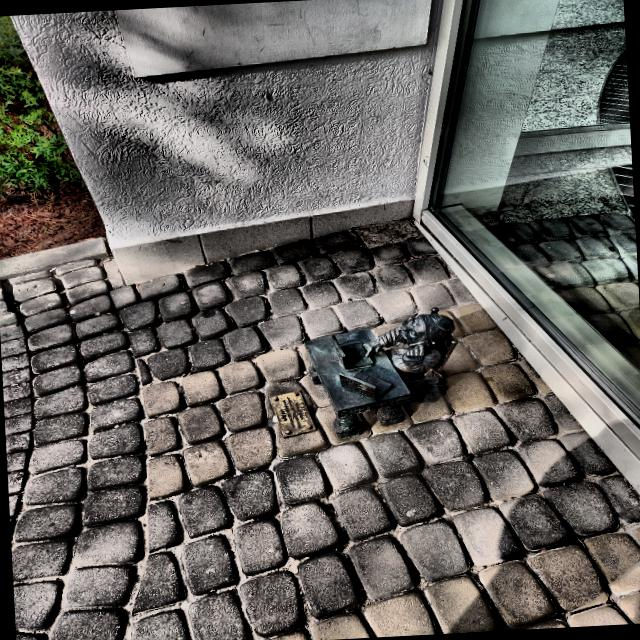WIZek: (306, 306, 456, 438)
